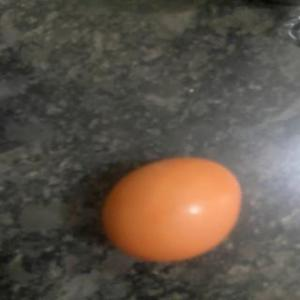egg: (96, 152, 244, 266)
